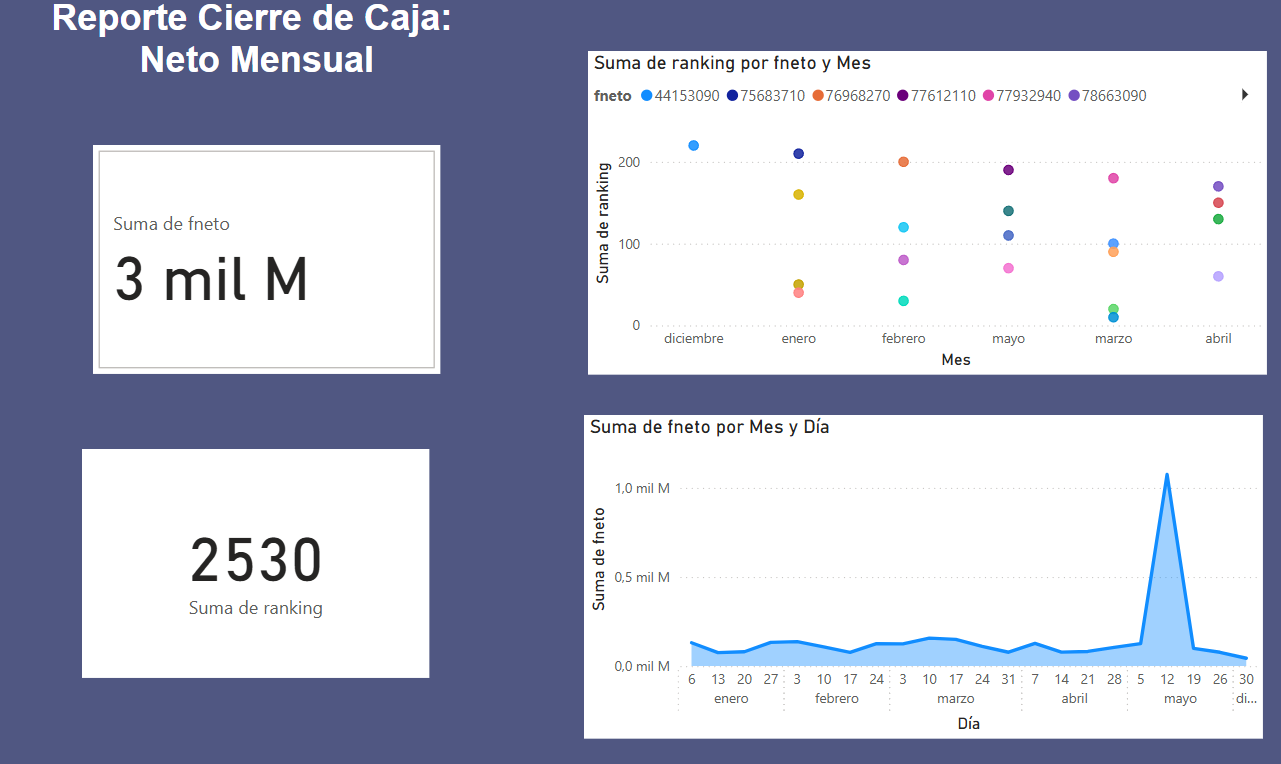

The dashboard page shown, as its layout file describes it:
{"tool":"powerbi","page":{"name":"Página 1","canvas":[1280,720],"ordinal":0},"visuals":[{"type":"areaChart","fields":{"Category":["kpi3_ventas_semanales_por_vendedor.semana.Variación.Jerarquía de fechas.Mes","kpi3_ventas_semanales_por_vendedor.semana.Variación.Jerarquía de fechas.Día"],"Y":["Sum(kpi3_ventas_semanales_por_vendedor.fneto)"]},"box":[625,396.7,601.7,286.7],"z":0},{"type":"scatterChart","fields":{"X":["kpi3_ventas_semanales_por_vendedor.semana.Variación.Jerarquía de fechas.Mes","kpi3_ventas_semanales_por_vendedor.semana.Variación.Jerarquía de fechas.Día"],"Y":["Sum(kpi3_ventas_semanales_por_vendedor.ranking)"],"Series":["kpi3_ventas_semanales_por_vendedor.fneto"]},"box":[628.3,73.3,601.7,286.7],"z":1000},{"type":"cardVisual","fields":{"Data":["Sum(kpi3_ventas_semanales_por_vendedor.fneto)"]},"box":[190,156.7,308.3,203.3],"z":2000},{"type":"card","fields":{"Values":["Sum(kpi3_ventas_semanales_por_vendedor.ranking)"]},"box":[180,426.7,308.3,203.3],"z":3000},{"type":"textbox","box":[260,36.7,85,93.3],"z":5000},{"type":"textbox","box":[0,21.7,670,103.3],"z":5001}]}

Visuals, with their boxes on the page's 1280x720 design canvas (x1, y1, x2, y2). These are canvas units, not pixel positions in the 1281x764 screenshot, which may show the page scaled, cropped or inside an application window:
areaChart - kpi3_ventas_semanales_por_vendedor.semana.Variación.Jerarquía de fechas.Mes x kpi3_ventas_semanales_por_vendedor.semana.Variación.Jerarquía de fechas.Día: (left=625, top=397, right=1227, bottom=683)
scatterChart - kpi3_ventas_semanales_por_vendedor.semana.Variación.Jerarquía de fechas.Mes x kpi3_ventas_semanales_por_vendedor.semana.Variación.Jerarquía de fechas.Día: (left=628, top=73, right=1230, bottom=360)
cardVisual - Sum(kpi3_ventas_semanales_por_vendedor.fneto): (left=190, top=157, right=498, bottom=360)
card - Sum(kpi3_ventas_semanales_por_vendedor.ranking): (left=180, top=427, right=488, bottom=630)
textbox: (left=260, top=37, right=345, bottom=130)
textbox: (left=0, top=22, right=670, bottom=125)
